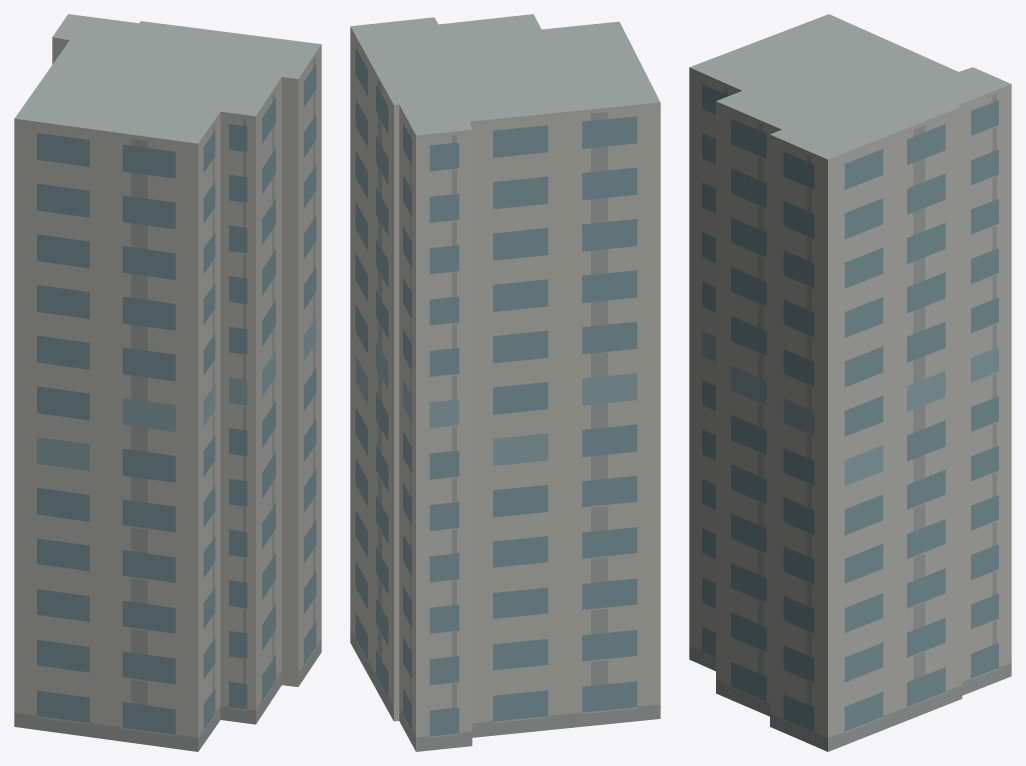
File: survey-upis-32862237.glb
3 views of the same model, side by side, from view 1: azimuth 30°, elevation 25°; view 2: azimuth 150°, elevation 25°; view 3: azimuth 270°, elevation 25° (orthographic). The views are drawn at different scales.
Visible parts, largest first — view 1: survey-upis-32862237.tmp; view 2: survey-upis-32862237.tmp; view 3: survey-upis-32862237.tmp.
Part boxes in pixels (bbox=[...]): survey-upis-32862237.tmp: bbox=[14, 14, 321, 751]; survey-upis-32862237.tmp: bbox=[350, 14, 660, 751]; survey-upis-32862237.tmp: bbox=[689, 14, 1011, 751].
Size of the model in its own units: 19.24 by 36.45 by 17.98.
